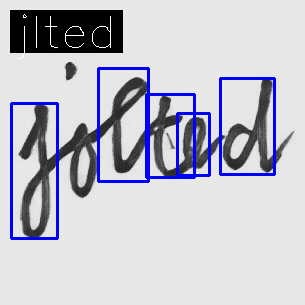d: (221, 77, 276, 173)
e: (180, 114, 215, 172)
j: (14, 99, 55, 241)
l: (107, 75, 150, 175)
o: (66, 120, 99, 200)
t: (151, 93, 184, 180)
